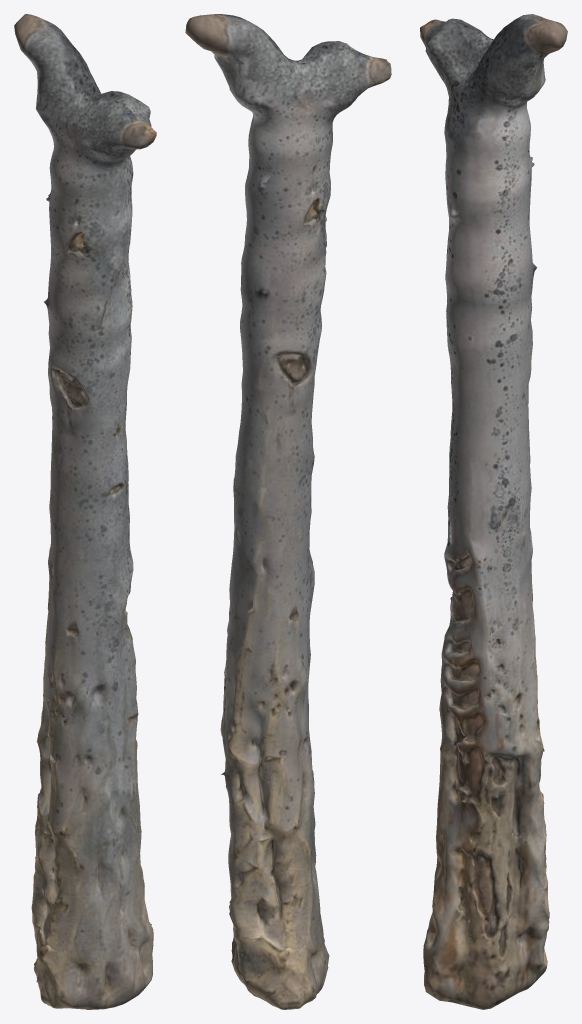
3 renders of one model, left to right at view 1: azimuth 90°, elevation 25°; view 2: azimuth 150°, elevation 25°; view 3: azimuth 270°, elevation 25°, orthographic. The views are drawn at different scales.
Visible parts, largest first — view 1: dead_quiver_trunk_LOD0; view 2: dead_quiver_trunk_LOD0; view 3: dead_quiver_trunk_LOD0.
Part boxes in pixels (x1=…): dead_quiver_trunk_LOD0: x1=14, y1=14, x2=156, y2=1009; dead_quiver_trunk_LOD0: x1=185, y1=14, x2=391, y2=1009; dead_quiver_trunk_LOD0: x1=420, y1=14, x2=567, y2=1009.
Size of the model in its own units: 0.3065 by 1.99 by 0.2681.
Materials: 1 (1 with a texture image).
